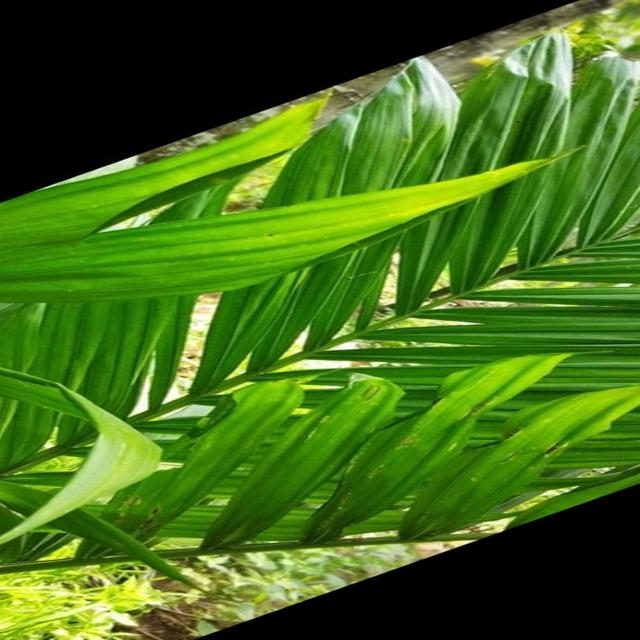Healthy_Leaf: (57, 150, 602, 560)
